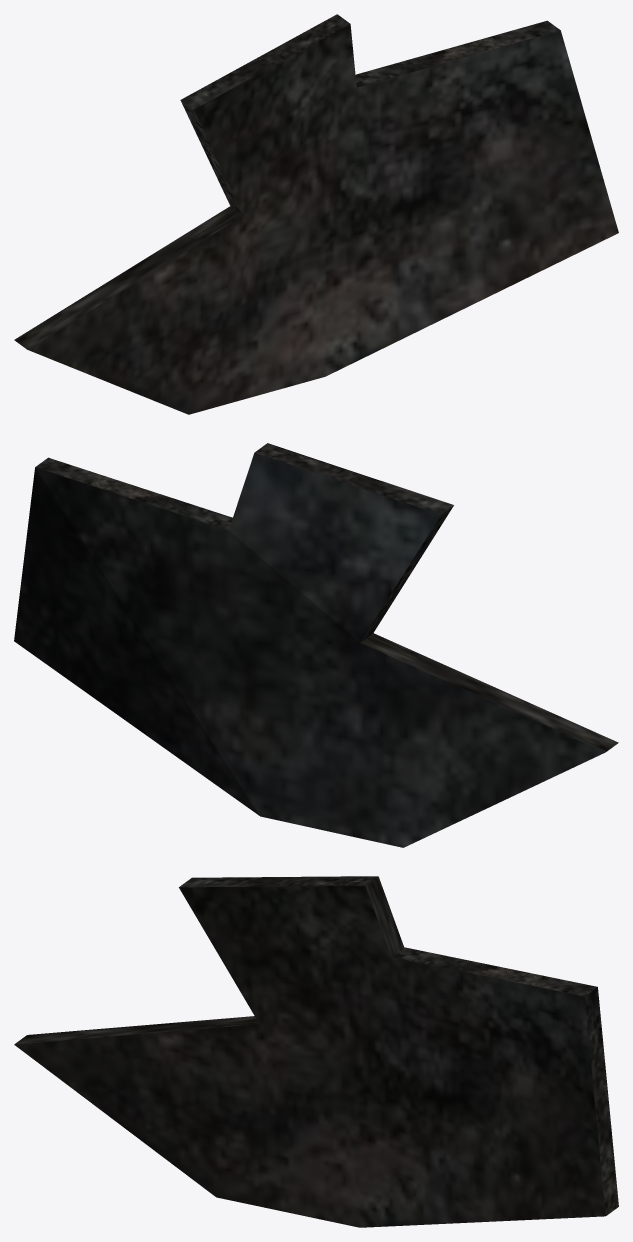
The model's file is prop_barrel_shard2.glb.
3 views of the same model, one above another, from view 1: azimuth 30°, elevation 25°; view 2: azimuth 150°, elevation 25°; view 3: azimuth 330°, elevation 25° (orthographic).
Size of the model in its own units: 12.41 by 7.12 by 1.41.
Materials: 1 (1 with a texture image).
